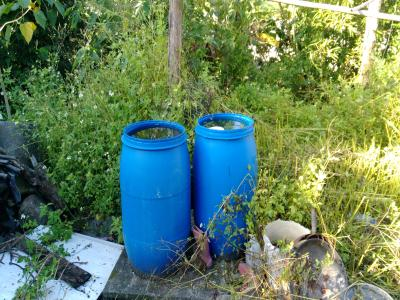bucket: (118, 120, 194, 281), (193, 111, 257, 264)
